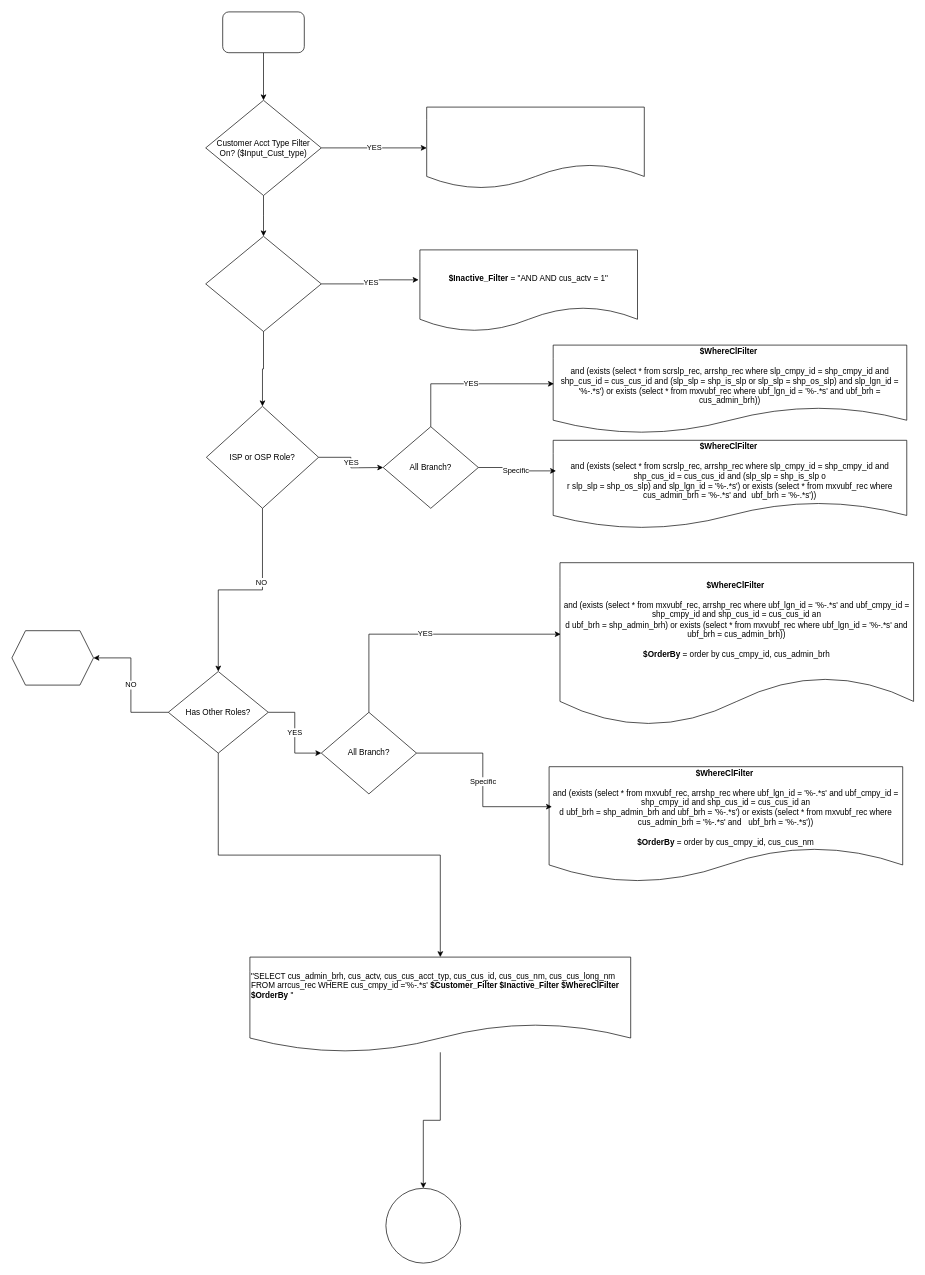
The diagram is 925 pixels wide and 1275 high, and some of its shapes have lost their labels. The centre of each missing label's shape, as x and y in pixels:
$Customer_Filter = "AND cus_cus_acct_typ = $Input_Cust_type: [535,147]
Filter : Include Inactive?: [263,284]
Return Read Filter: [423,1225]
START: [263,32]
STOP ERROR: [52,657]
